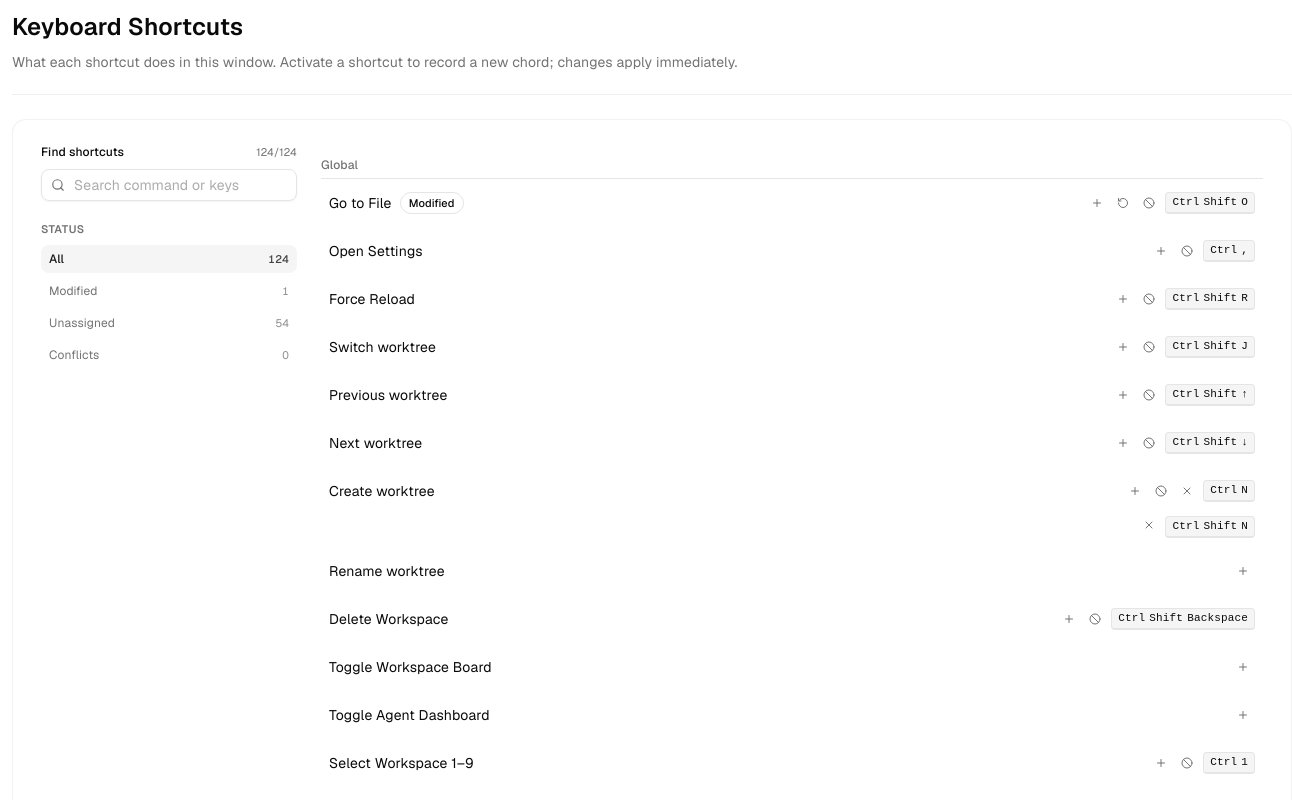
it: per-row Disable control (#244) › Disable persists the empty override and offers Enable
What coordinates should you click on to do the following:
click the button named "Disable Go to File"
I would click on:
 (1149, 203)
Its box is [1137,191,1161,215].
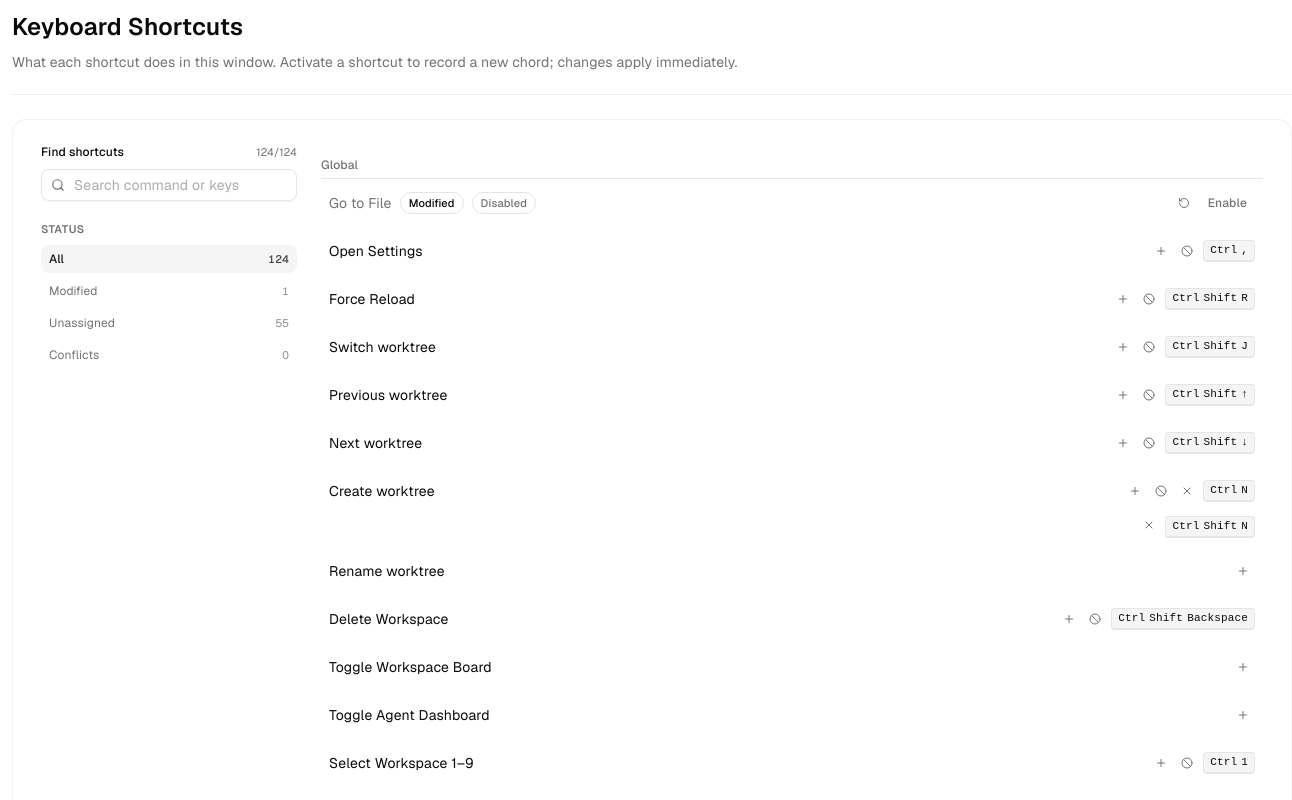
Expected: the text "Disabled" is shown, [472,192,536,214]
Expected: the button with aria-label "Enable Go to File" is shown, [1200,191,1255,215]
